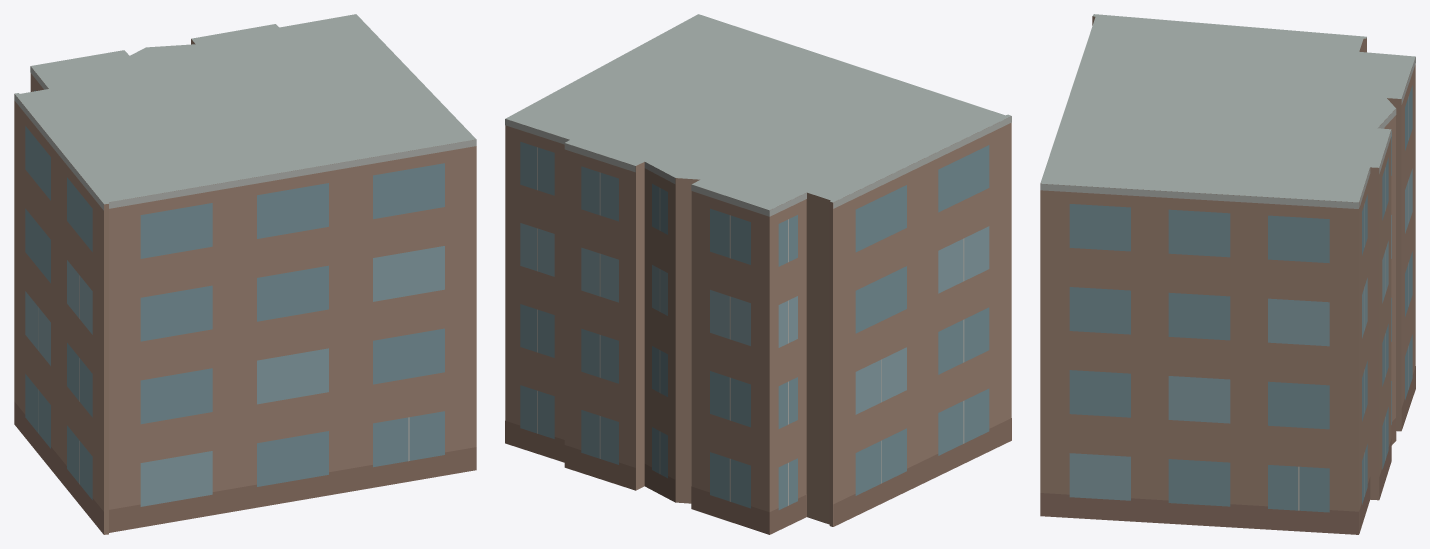
File: survey-upis-32838349.glb
3 renders of one model, left to right at view 1: azimuth 30°, elevation 25°; view 2: azimuth 150°, elevation 25°; view 3: azimuth 270°, elevation 25°, orthographic. The views are drawn at different scales.
Visible parts, largest first — view 1: survey-upis-32838349.tmp; view 2: survey-upis-32838349.tmp; view 3: survey-upis-32838349.tmp.
Boxes of the visible parts, x1=… form: survey-upis-32838349.tmp: x1=14, y1=14, x2=476, y2=534; survey-upis-32838349.tmp: x1=505, y1=14, x2=1011, y2=534; survey-upis-32838349.tmp: x1=1040, y1=14, x2=1415, y2=534.
Bounding box in the file's own units: 14.84 × 12.2 × 12.5.
